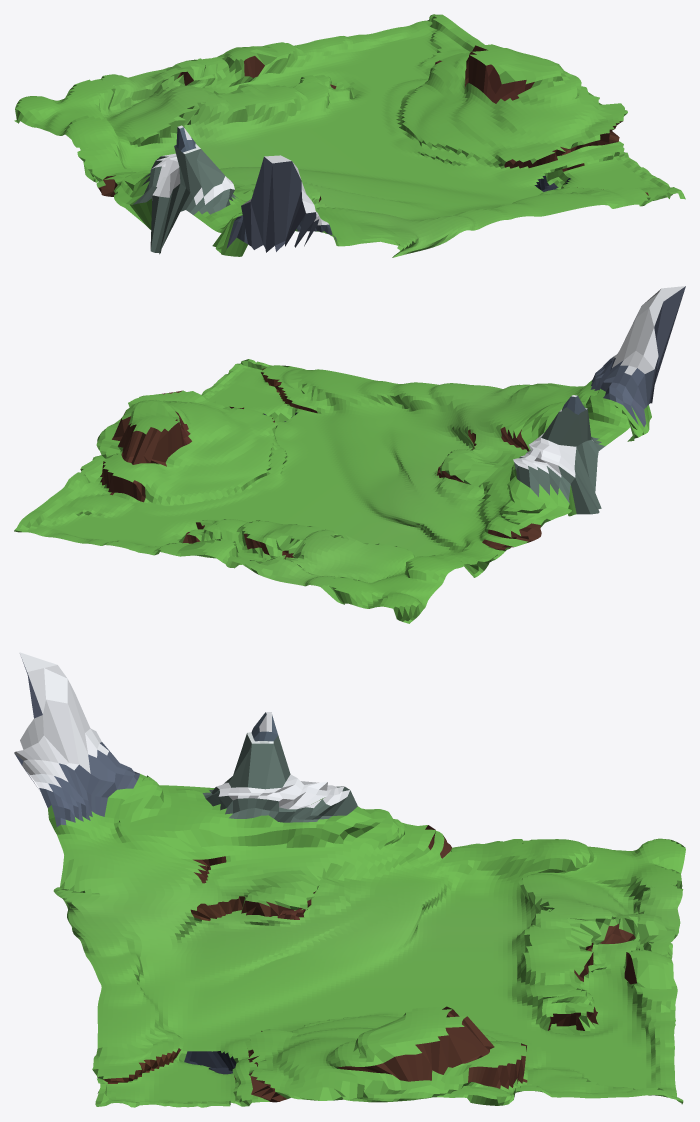
File: terreno videojuego 1 final.fbx
The picture shows the model from 3 angles, top to bottom: view 1: azimuth 30°, elevation 25°; view 2: azimuth 150°, elevation 25°; view 3: azimuth 270°, elevation 25°; orthographic projection. The views are drawn at different scales.
Visible parts, largest first — view 1: Plane.001; view 2: Plane.001; view 3: Plane.001.
Boxes of the visible parts, x1,y1,x2,y2 form: Plane.001: (14, 14, 685, 257); Plane.001: (14, 286, 685, 623); Plane.001: (14, 652, 685, 1107).
Bounding box in the file's own units: 2277 × 813 × 2297.
Materials: 1 (1 with a texture image).
